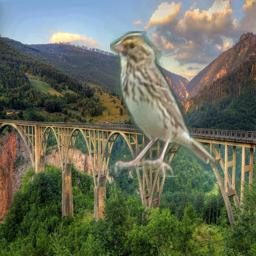Sparrow: (110, 31, 216, 177)
